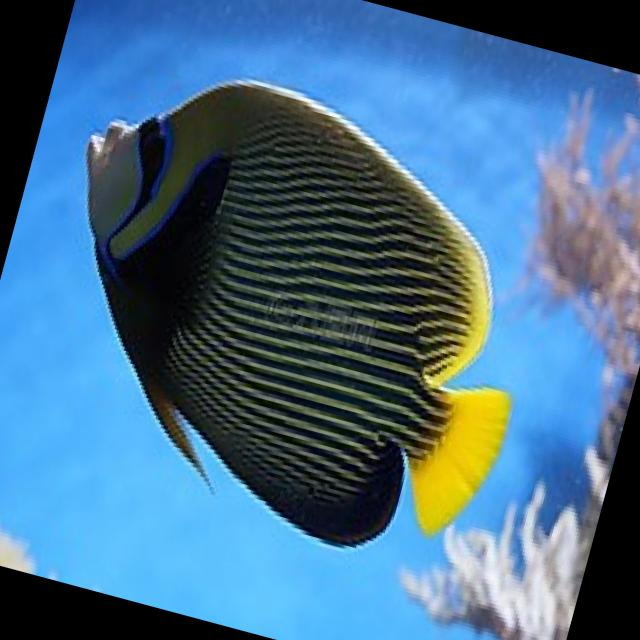AngelFish: (6, 39, 576, 580)
